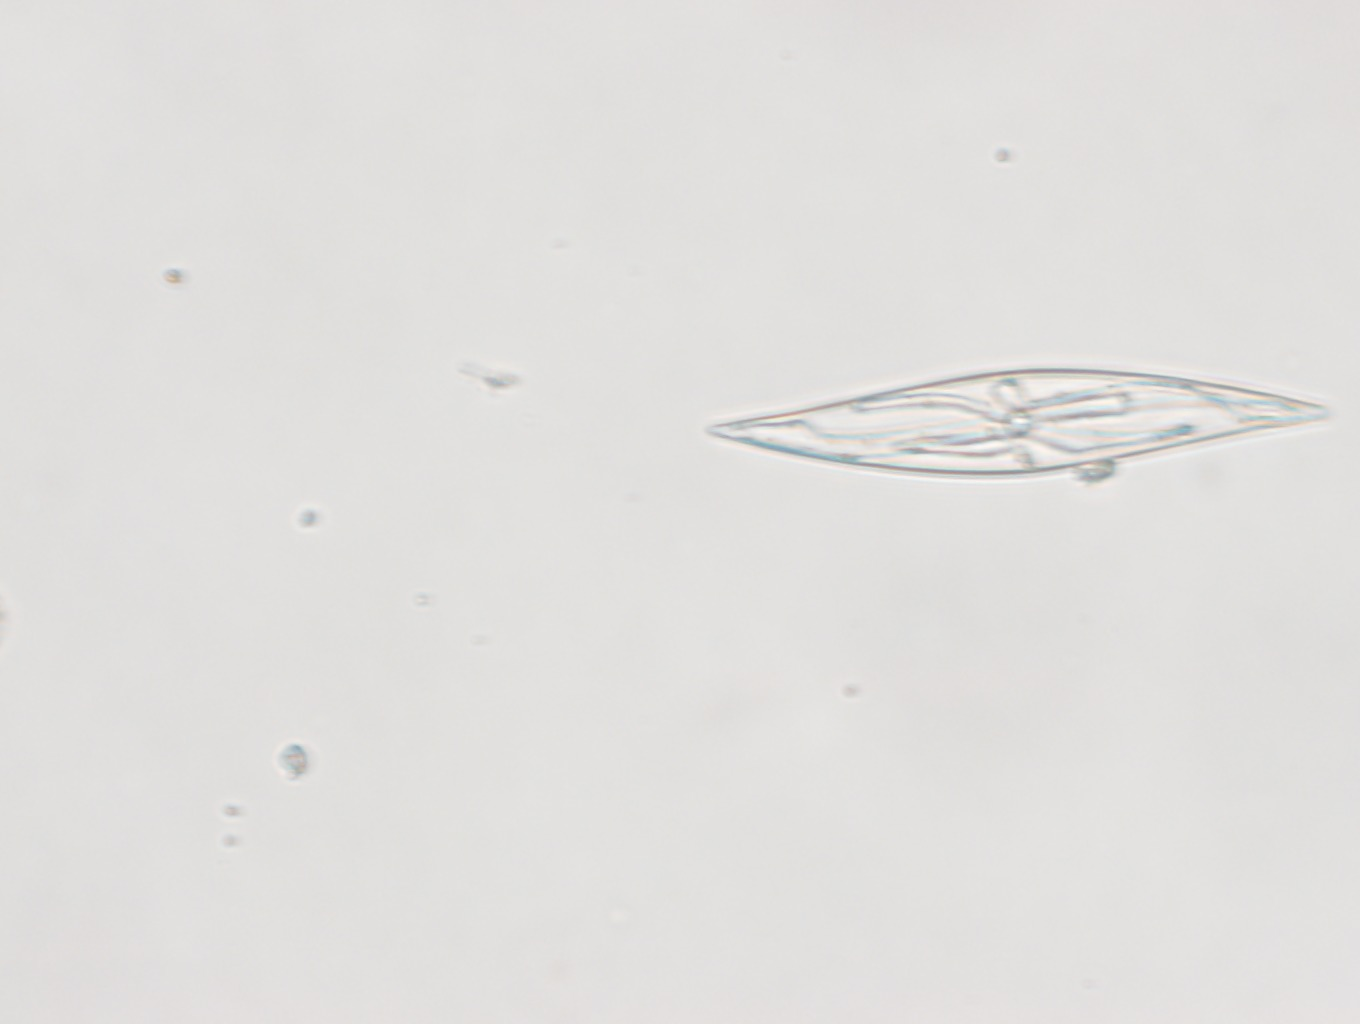pleurosigma pelagicum: (706, 366, 1331, 477)
